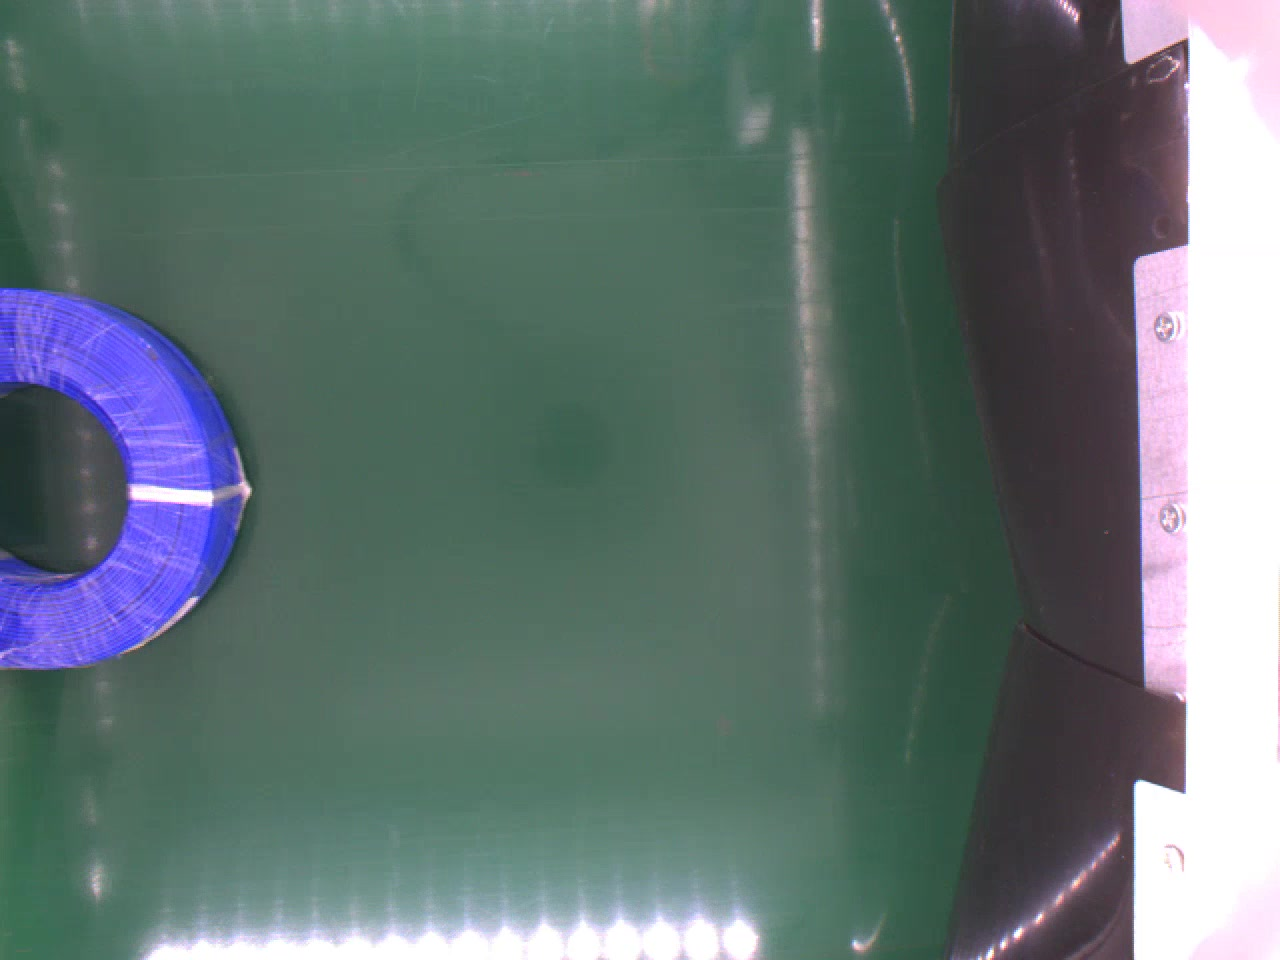blue: (0, 285, 252, 666)
